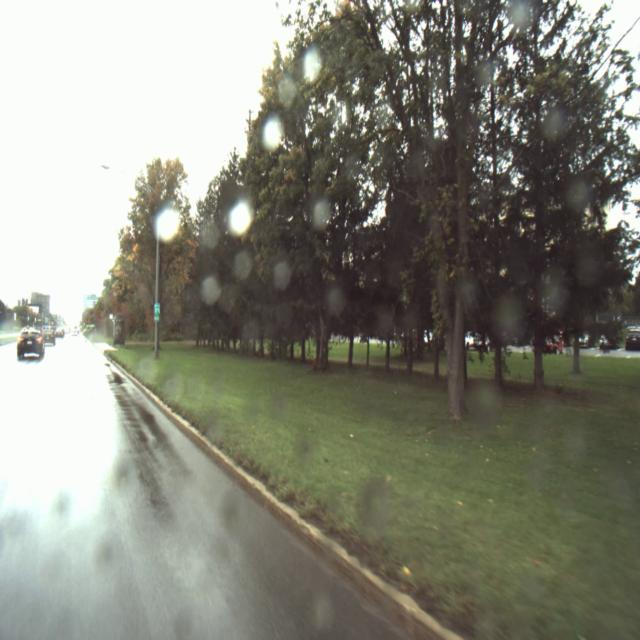car: (16, 327, 46, 360), (625, 328, 640, 353), (43, 327, 56, 346), (56, 327, 65, 338)
